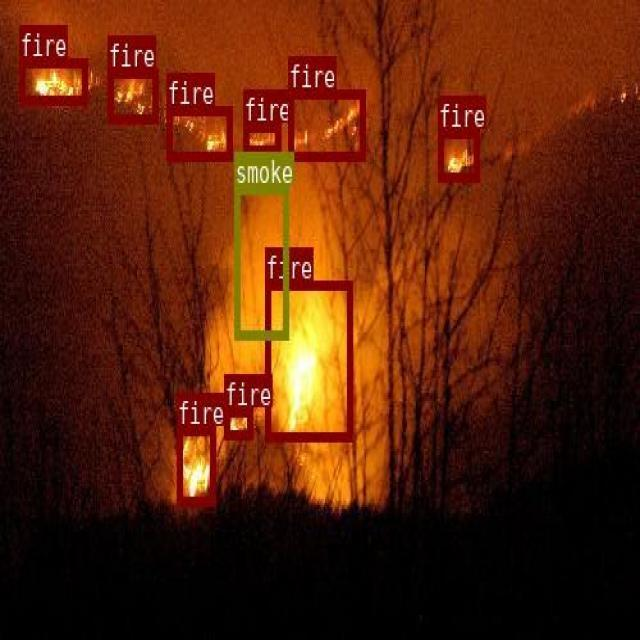fire: (264, 278, 351, 440), (287, 87, 364, 158), (165, 104, 231, 159), (19, 58, 87, 103), (176, 426, 214, 505), (106, 67, 157, 121), (437, 128, 478, 179), (243, 122, 279, 153), (223, 406, 251, 438)
smoke: (233, 184, 287, 338)
